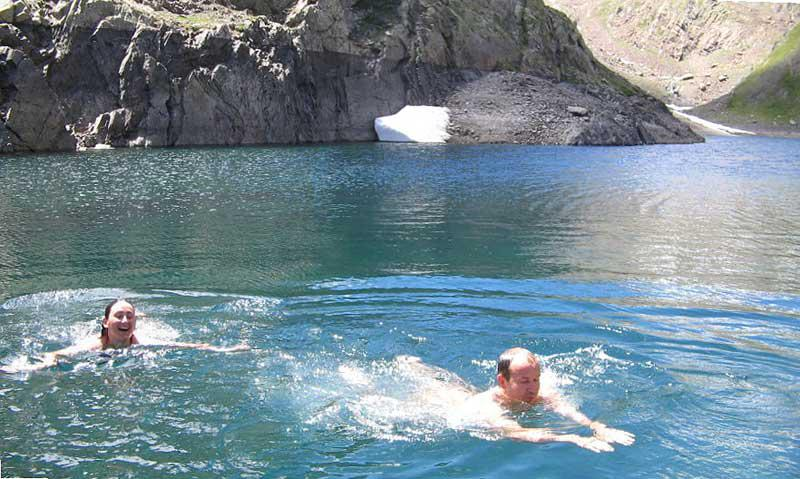human: (461, 343, 635, 453), (64, 296, 140, 359)
